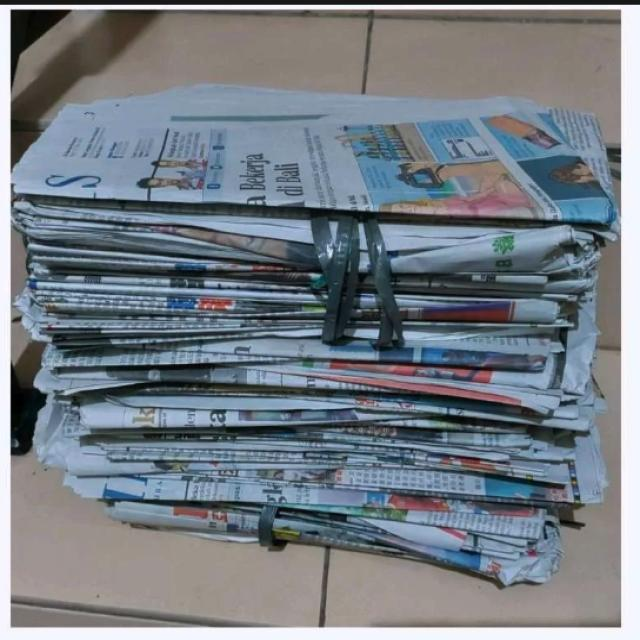Koran: (12, 83, 619, 589)
